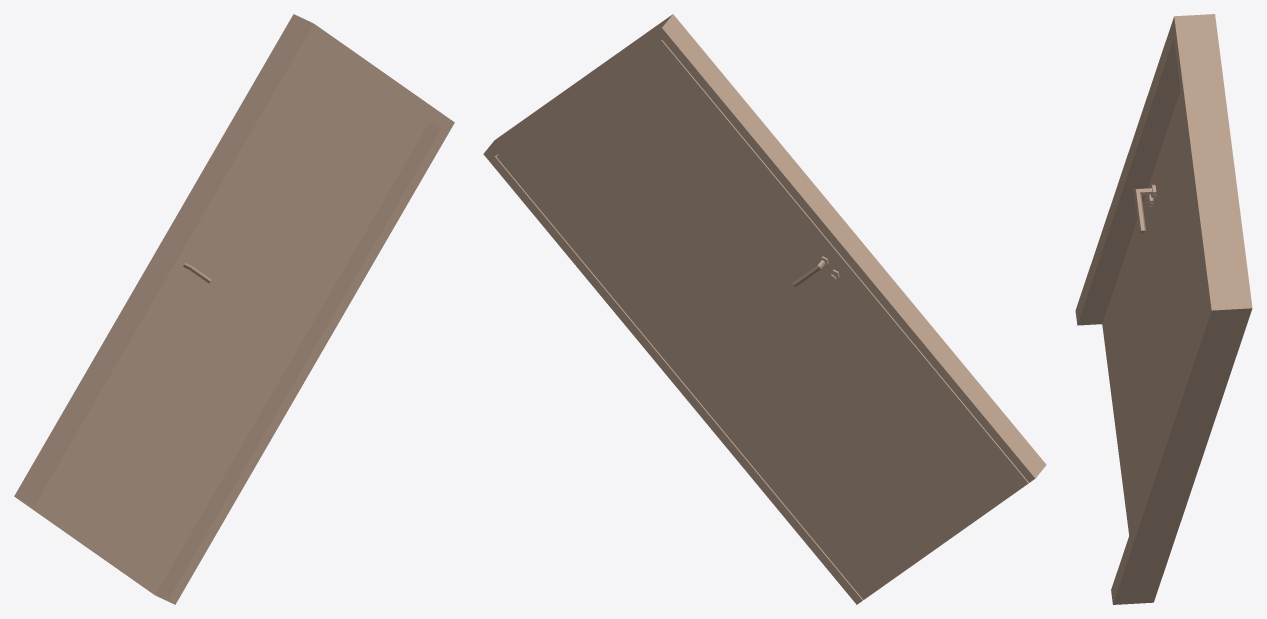
3 renders of one model, left to right at view 1: azimuth 30°, elevation 25°; view 2: azimuth 150°, elevation 25°; view 3: azimuth 270°, elevation 25°, orthographic. The views are drawn at different scales.
Visible parts, largest first — view 1: mesh; view 2: mesh; view 3: mesh.
Boxes of the visible parts, x1=… form: mesh: x1=14, y1=14, x2=454, y2=604; mesh: x1=483, y1=14, x2=1046, y2=604; mesh: x1=1075, y1=14, x2=1252, y2=604.
Bounding box in the file's own units: 2.01 × 2.12 × 0.4902.
